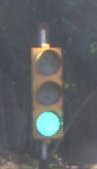Green: (26, 47, 67, 144)
